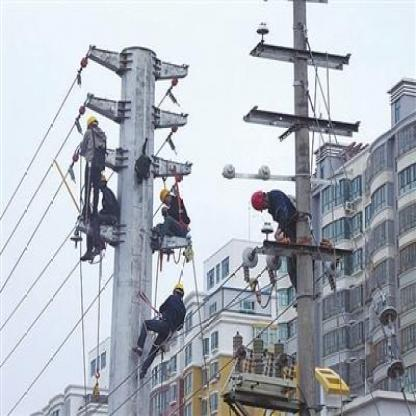helmet: (248, 191, 274, 214), (85, 111, 101, 134), (171, 284, 188, 305), (158, 186, 175, 206)
